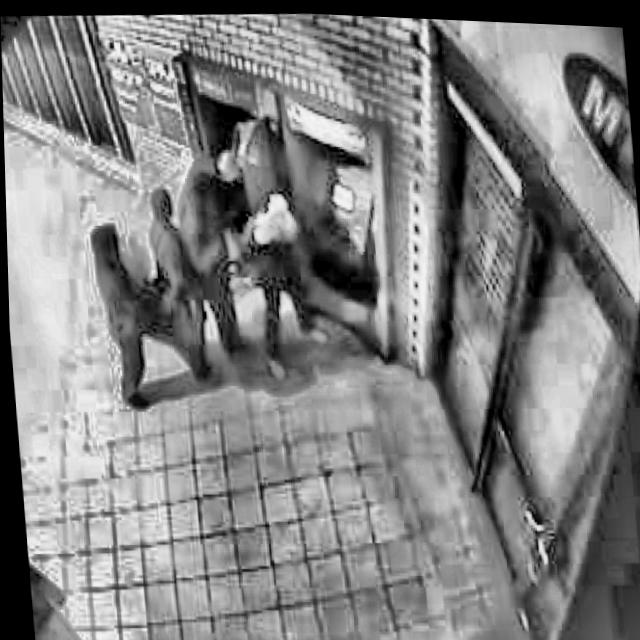burglary: (136, 88, 391, 426)
